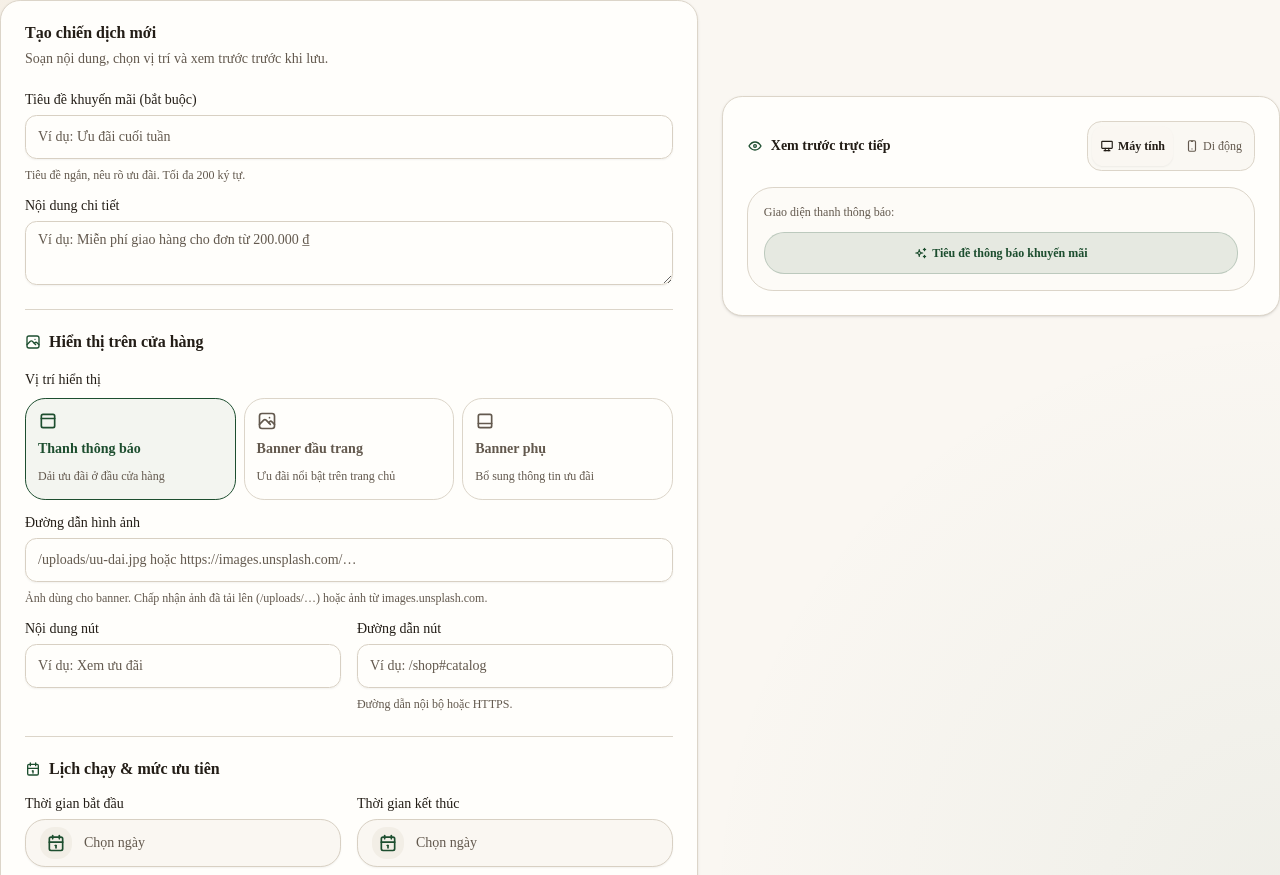
Test case: PromotionForm feedback › clears the selected day and hour together
The image size is (1280, 875).
Step 1. Click the button with aria-label "Ngày bắt đầu" → [56, 842], box [25,818,341,866]
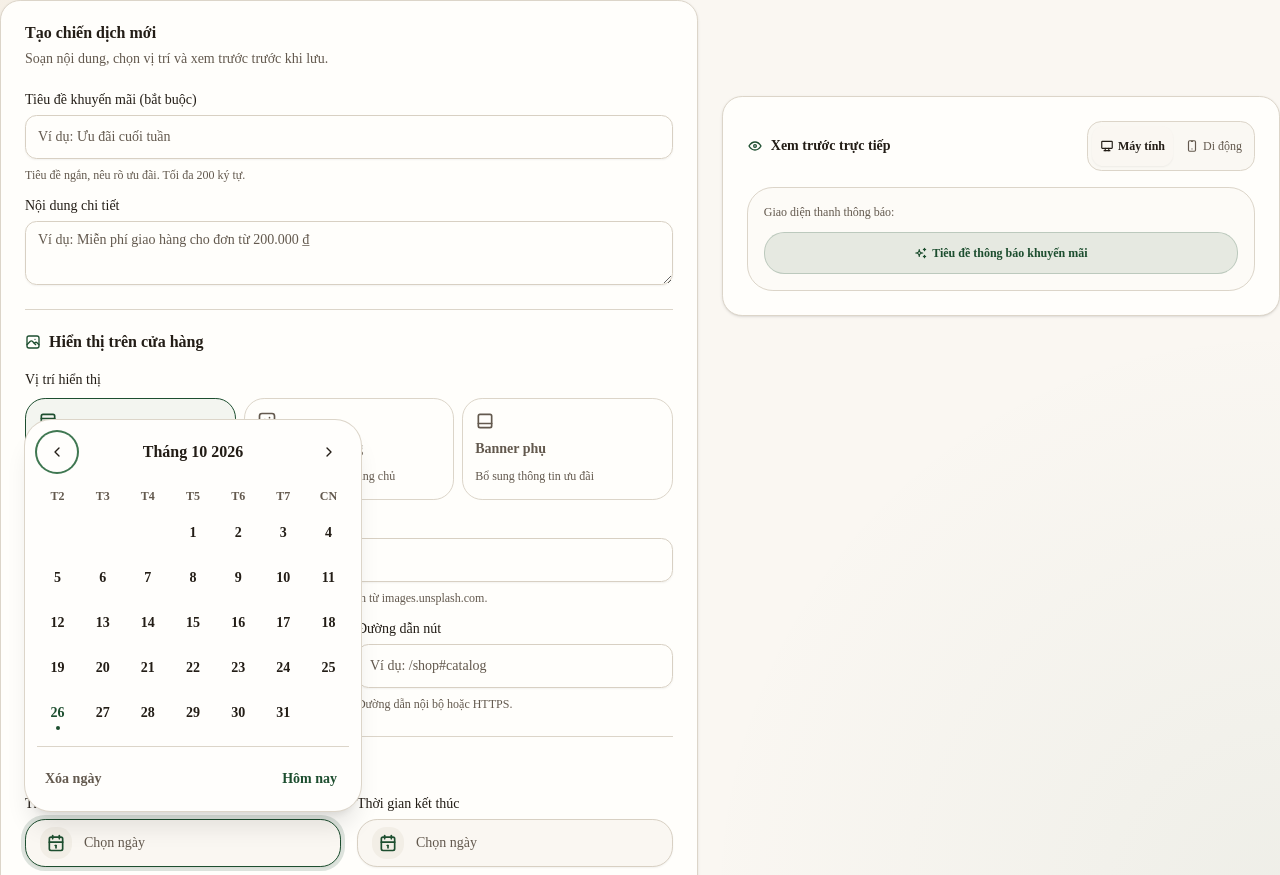
Step 2. Click the button "15" → [193, 623], box [172,602,214,643]
(page scrolled)
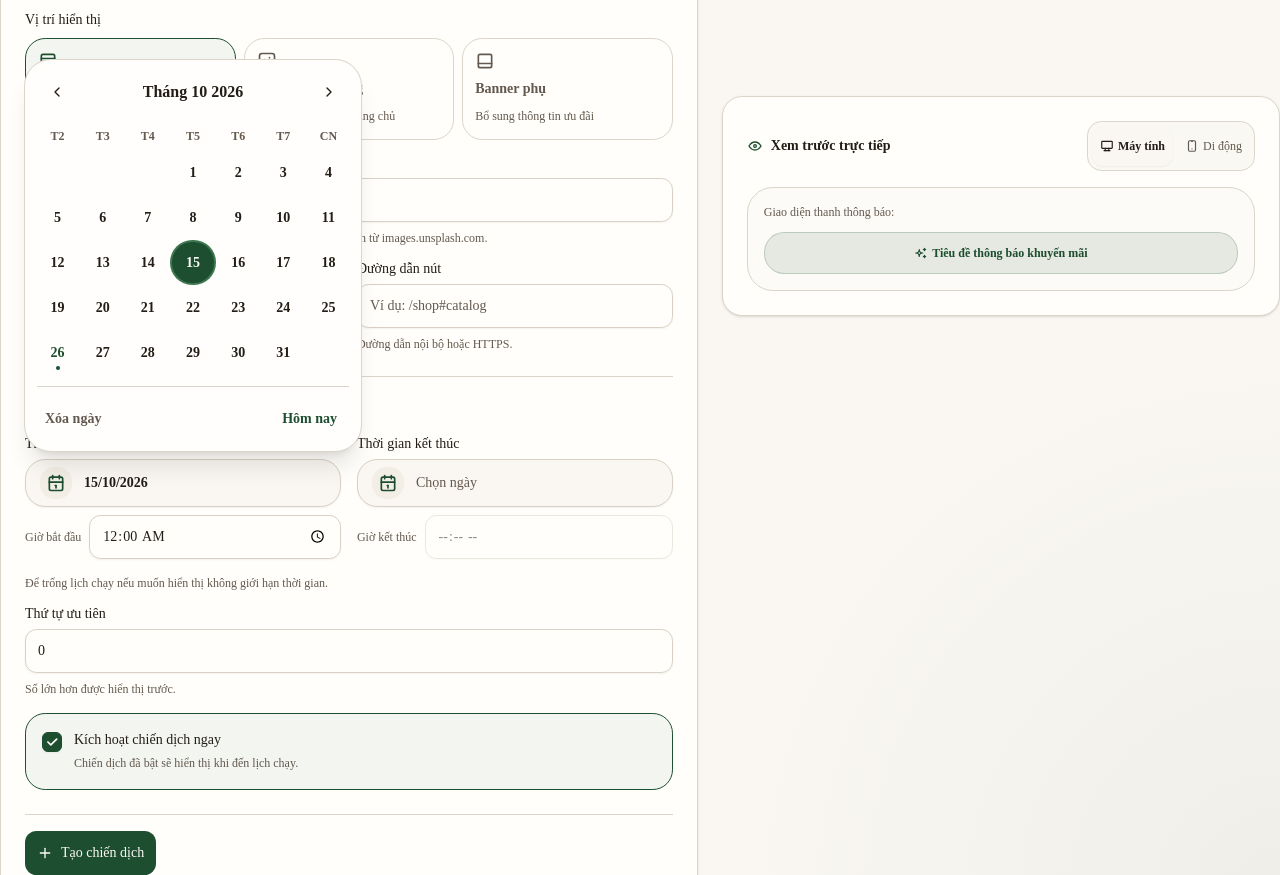
Step 3. Replace the text in the time field labelled "Giờ bắt đầu" with "08:30" → [215, 536], box [89,514,341,558]
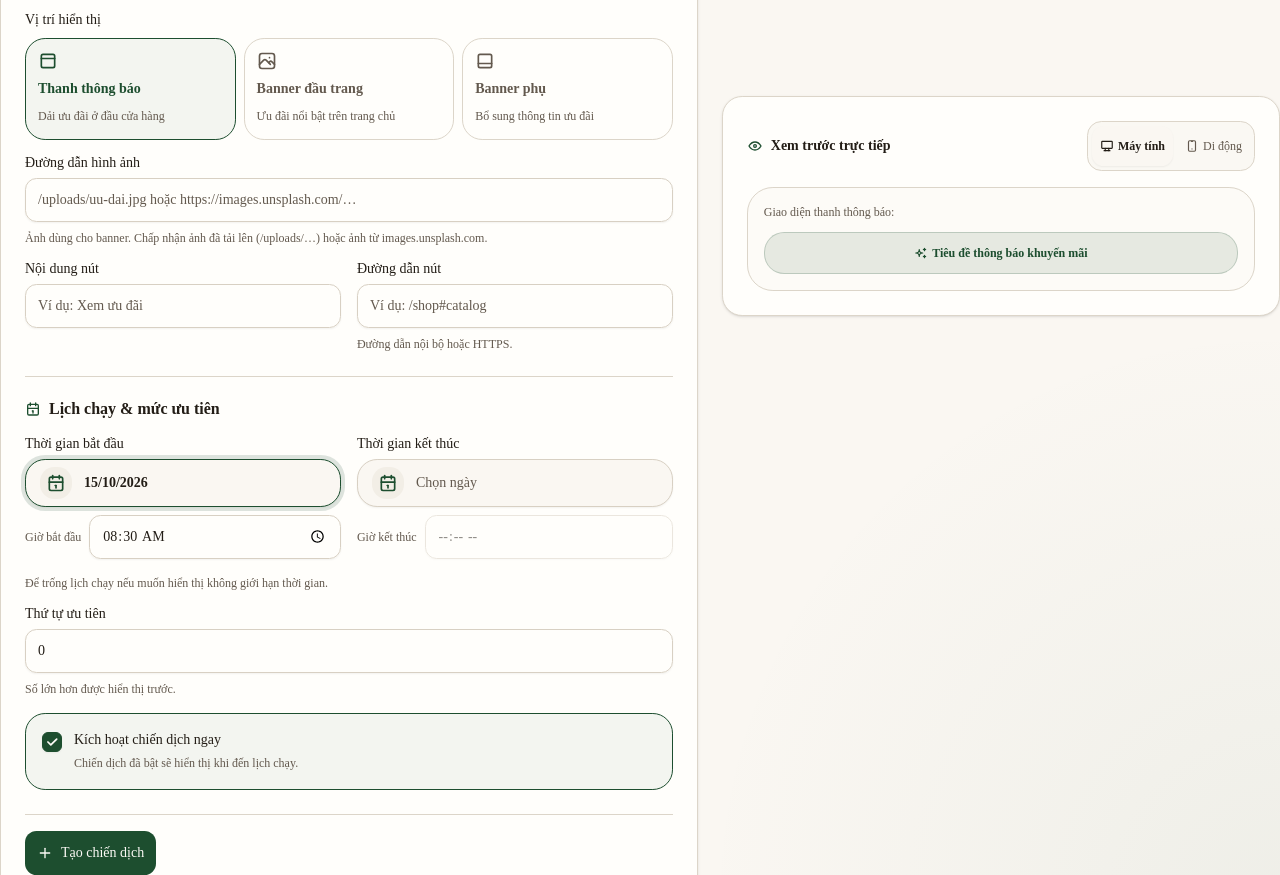
Step 4. Click the button named "Ngày bắt đầu" → [56, 482], box [25,458,341,506]
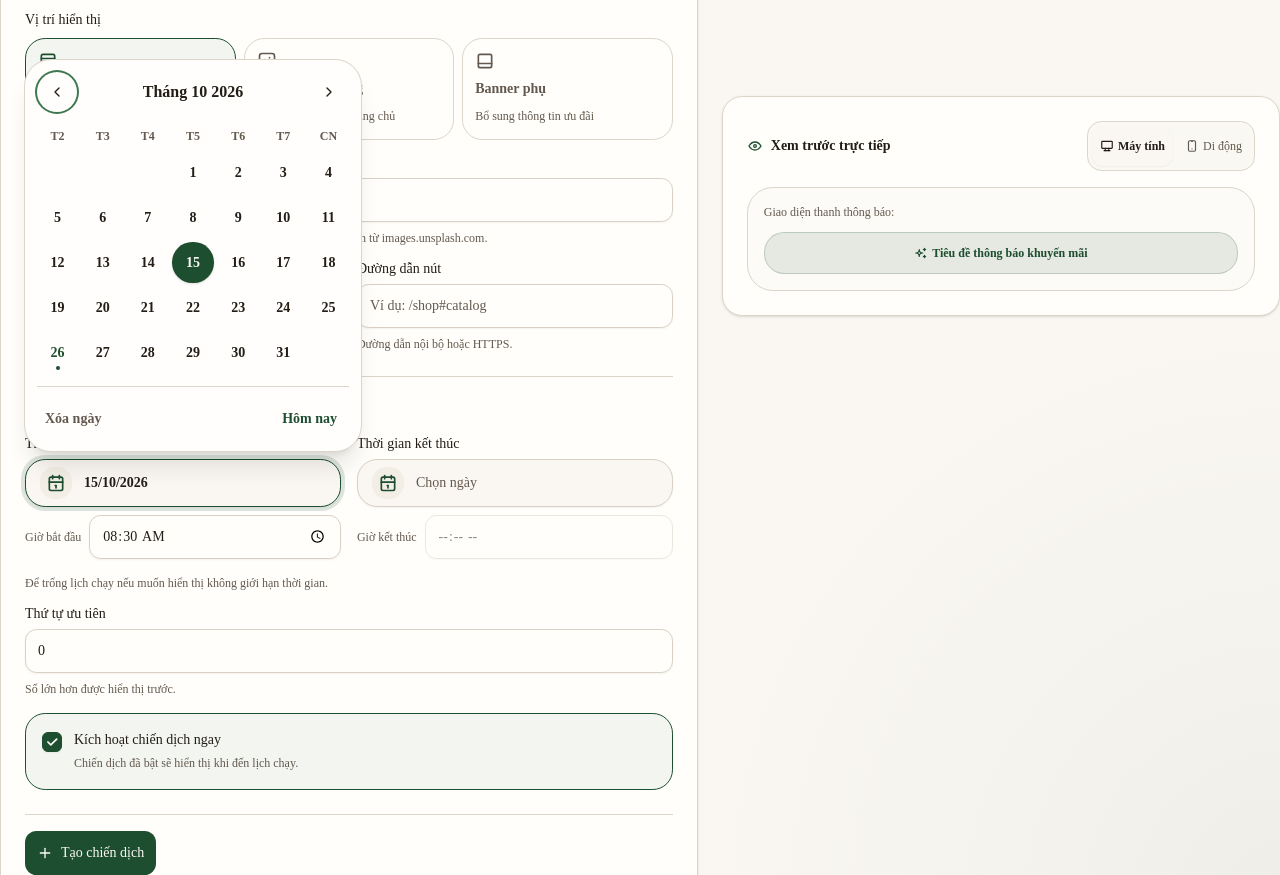
Step 5. Click the button "Xóa ngày" → [73, 419], box [37,399,109,439]
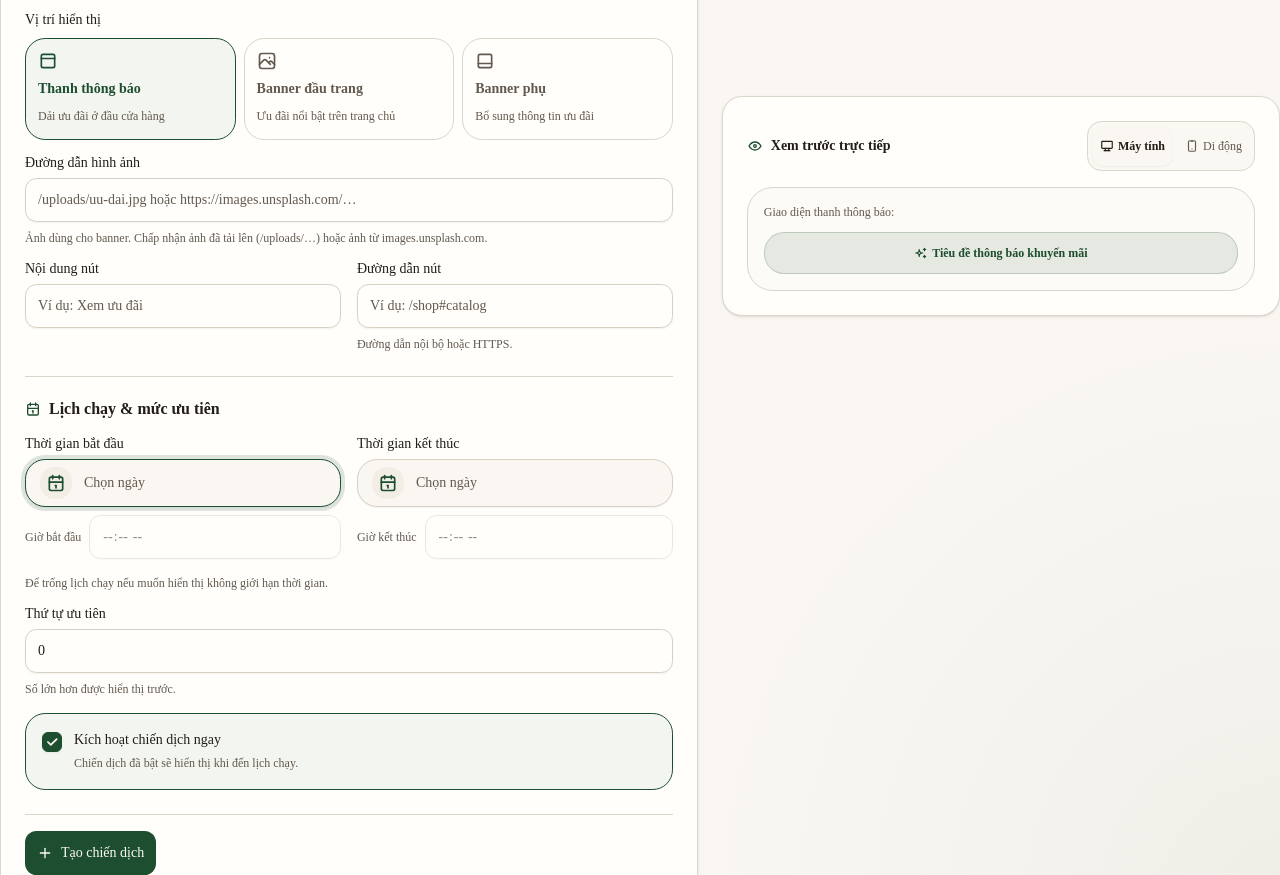
expect the button with aria-label "Ngày bắt đầu" reads "Chọn ngày": met, box [25,458,341,506]
expect the time field labelled "Giờ bắt đầu" is empty: met, box [89,514,341,558]
expect the time field labelled "Giờ bắt đầu" is disabled: met, box [89,514,341,558]
